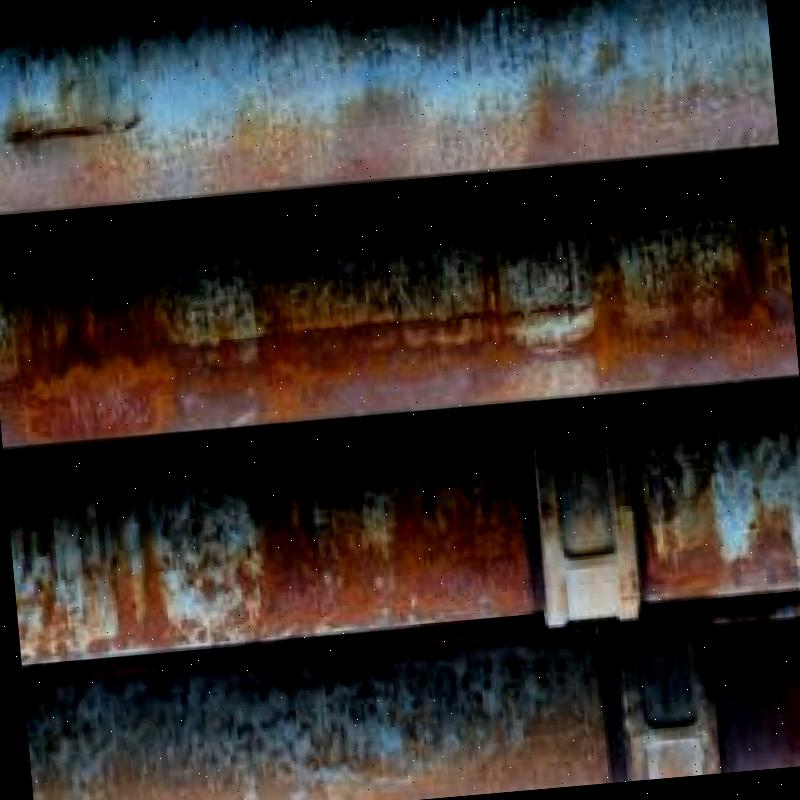Fracture: (6, 110, 178, 150)
corrosion: (0, 203, 800, 654)
